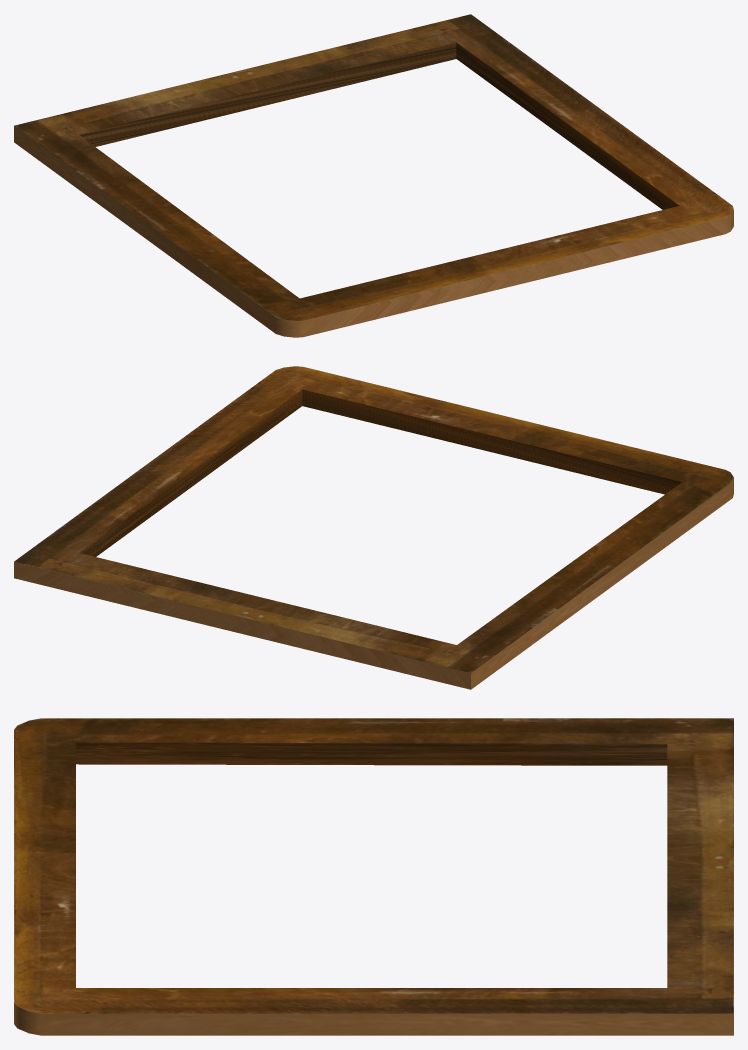
File: right_tape_device_ring.obj
3 views of the same model, one above another, from view 1: azimuth 30°, elevation 25°; view 2: azimuth 150°, elevation 25°; view 3: azimuth 270°, elevation 25° (orthographic). The views are drawn at different scales.
Parts seen in each view (by area): view 1: left_tape_device_wooden_ring_Cube.008; view 2: left_tape_device_wooden_ring_Cube.008; view 3: left_tape_device_wooden_ring_Cube.008.
Part boxes in pixels (x1=…): left_tape_device_wooden_ring_Cube.008: x1=14, y1=14, x2=733, y2=337; left_tape_device_wooden_ring_Cube.008: x1=14, y1=366, x2=733, y2=689; left_tape_device_wooden_ring_Cube.008: x1=14, y1=718, x2=733, y2=1035.
Bounding box in the file's own units: 0.776 × 0.027 × 0.8.
